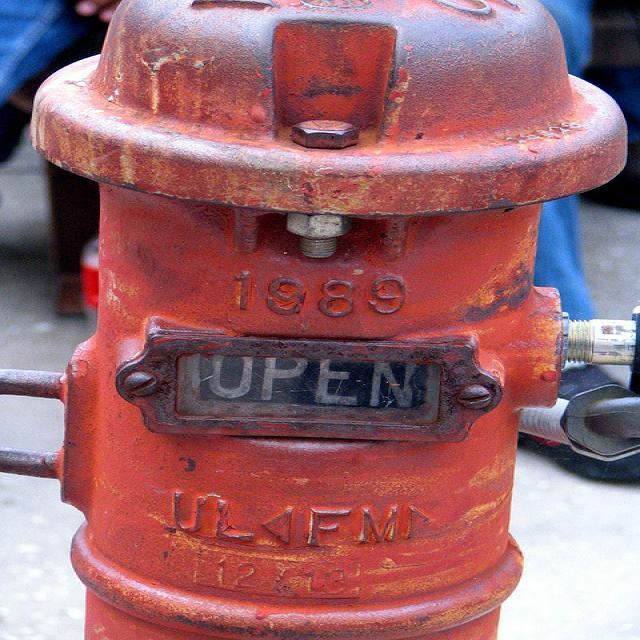fire_hydrant: (22, 0, 640, 639)
